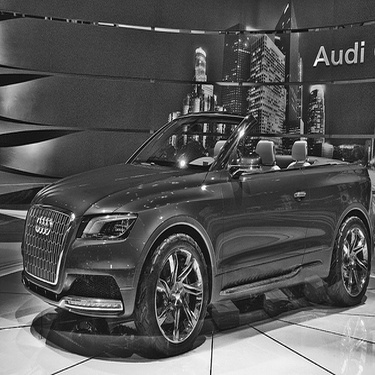car: (7, 104, 374, 342)
